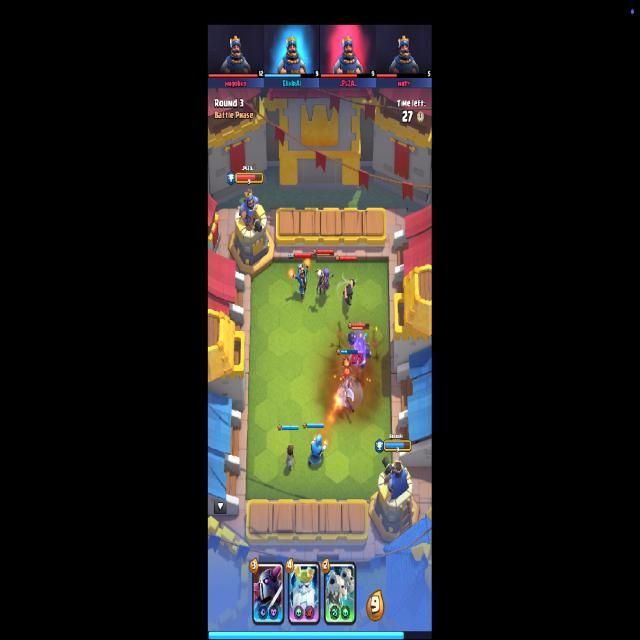card_pekka: (251, 560, 285, 626)
card_royal_ghost: (288, 562, 320, 626)
card_skeleton_dragon: (323, 560, 357, 627)
executioner: (342, 277, 356, 308)
mega_knight: (348, 331, 370, 371)
princess: (286, 443, 296, 473)
valkyrie: (340, 370, 354, 394)
witch: (314, 267, 334, 298)
wizard: (290, 258, 310, 298), (309, 434, 327, 468)
